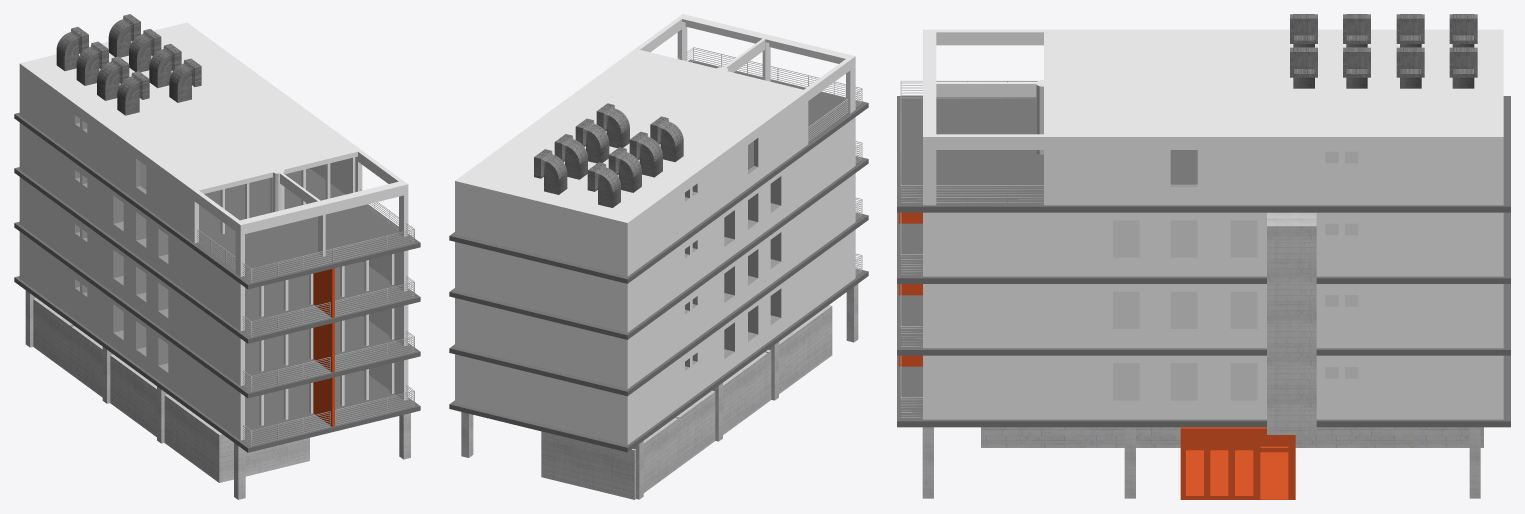
The model's file is bygning 4.fbx.
3 renders of one model, left to right at view 1: azimuth 30°, elevation 25°; view 2: azimuth 150°, elevation 25°; view 3: azimuth 270°, elevation 25°, orthographic. The views are drawn at different scales.
Visible parts, largest first — view 1: pasted__pasted__pCube11, pasted__pasted__pCube2, pCube11, pasted__pasted__pasted__pCube12, polySurface86, pCube10; view 2: pasted__pasted__pCube11, pCube11, pasted__pasted__pCube2, pasted__pasted__pasted__pCube12, polySurface86; view 3: pasted__pasted__pCube11, pasted__pasted__pCube2, pCube11, pCube10, pasted__pasted__pasted__pCube12, polySurface86.
Part boxes in pixels (bbox=[...]): pasted__pasted__pCube11: bbox=[19, 22, 408, 440]; pasted__pasted__pCube2: bbox=[14, 112, 420, 452]; pCube11: bbox=[25, 290, 410, 499]; pasted__pasted__pasted__pCube12: bbox=[56, 14, 201, 115]; polySurface86: bbox=[197, 189, 414, 446]; pCube10: bbox=[313, 268, 334, 426]; pasted__pasted__pCube11: bbox=[455, 14, 855, 444]; pCube11: bbox=[461, 284, 858, 499]; pasted__pasted__pCube2: bbox=[449, 59, 868, 452]; pasted__pasted__pasted__pCube12: bbox=[534, 103, 683, 207]; polySurface86: bbox=[678, 47, 862, 275]; pasted__pasted__pCube11: bbox=[923, 29, 1503, 419]; pasted__pasted__pCube2: bbox=[897, 96, 1510, 427]; pCube11: bbox=[922, 212, 1483, 498]; pCube10: bbox=[898, 212, 1295, 499]; pasted__pasted__pasted__pCube12: bbox=[1290, 14, 1477, 88]; polySurface86: bbox=[900, 80, 1043, 417].
Bounding box in the file's own units: 22.43 × 33.77 × 46.71.
Materials: 7 (6 with a texture image).
